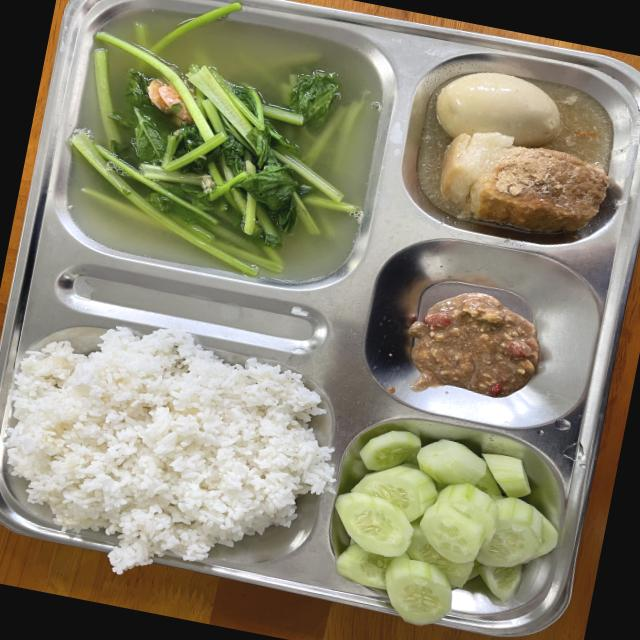canh cai: (67, 8, 381, 282)
com: (6, 328, 334, 573)
dua leo: (335, 431, 558, 625)
kho trung: (436, 73, 609, 232)
thit chien: (504, 104, 516, 111)
